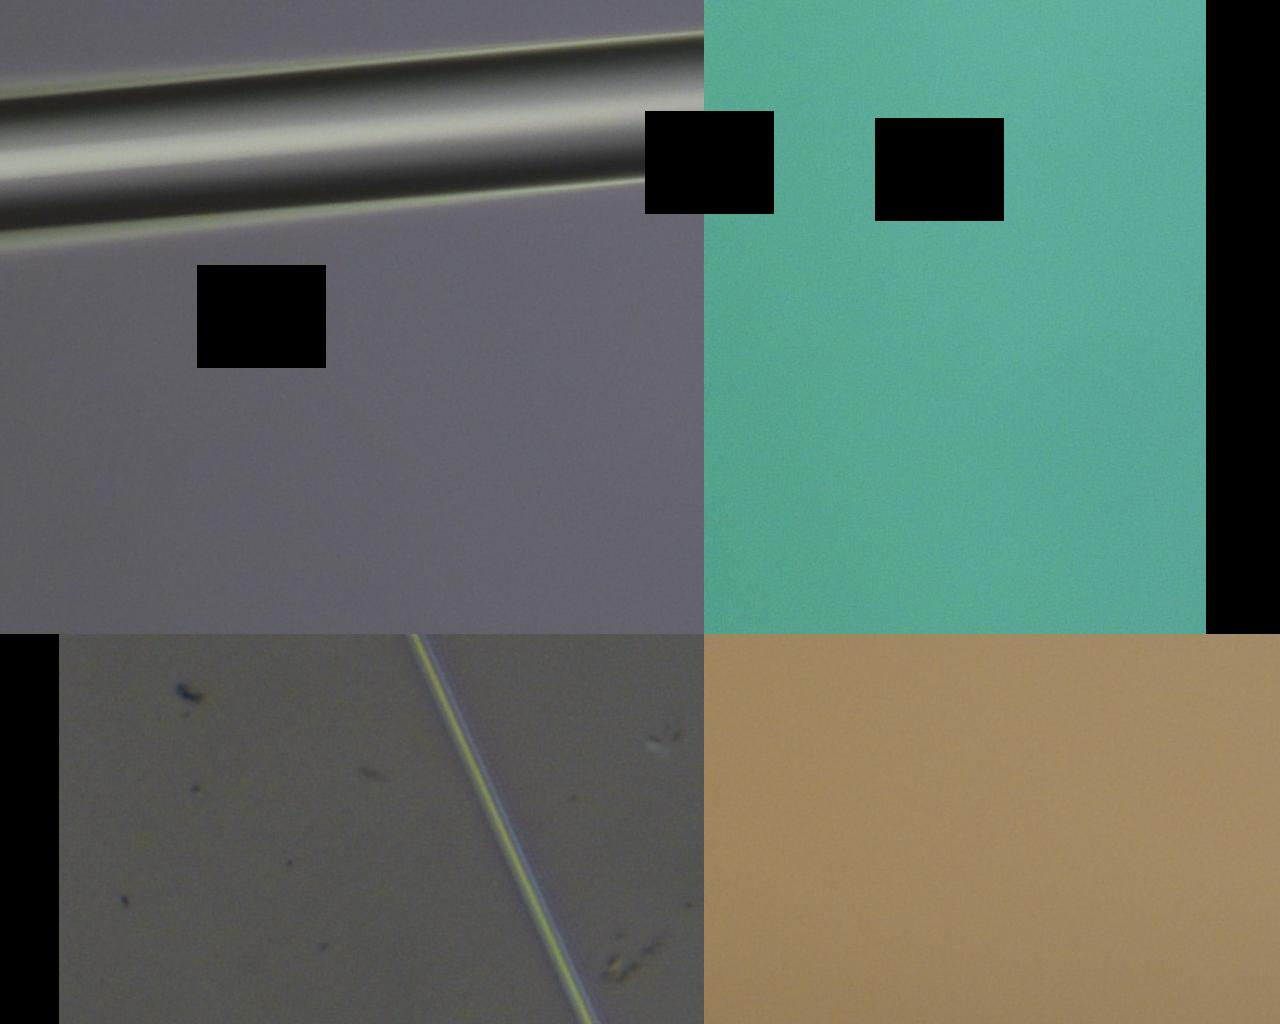fiber: (727, 0, 1280, 416), (601, 572, 1037, 1024), (0, 134, 601, 441), (0, 491, 601, 787)
